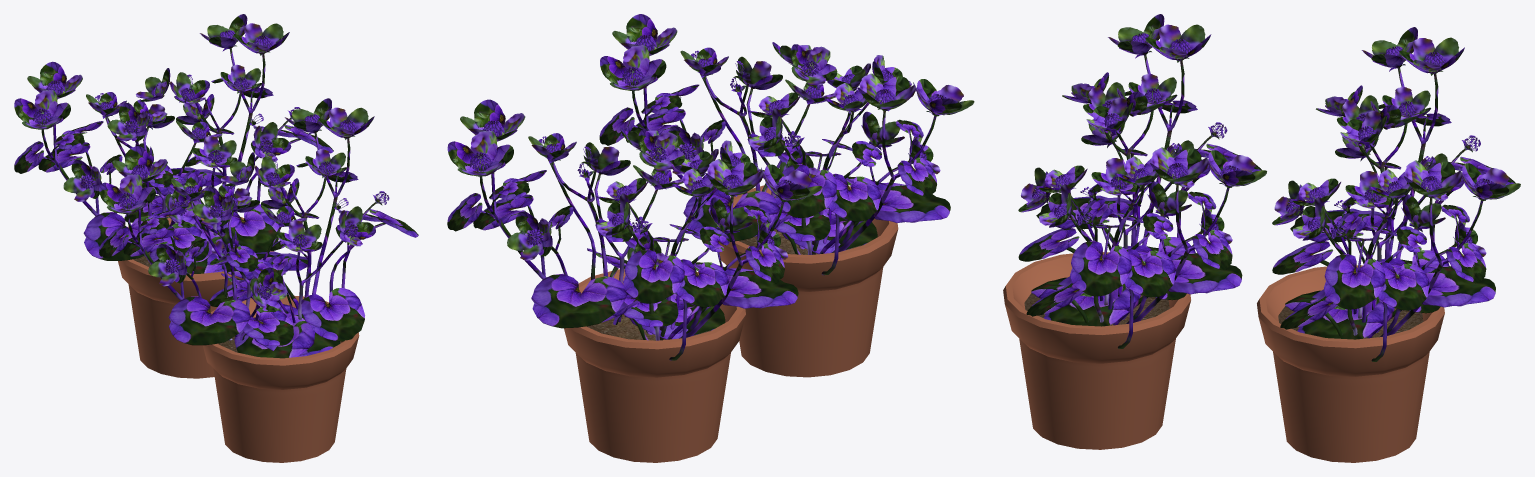
File: Room3-Flower11(Marigold).glb
The picture shows the model from 3 angles, left to right: view 1: azimuth 30°, elevation 25°; view 2: azimuth 150°, elevation 25°; view 3: azimuth 270°, elevation 25°; orthographic projection. The views are drawn at different scales.
Visible parts, largest first — view 1: marigold, marigold.001; view 2: marigold.001, marigold; view 3: marigold.001, marigold.
Part boxes in pixels (x1=…): marigold: x1=99, y1=98, x2=418, y2=462; marigold.001: x1=14, y1=14, x2=333, y2=378; marigold.001: x1=447, y1=99, x2=822, y2=462; marigold: x1=599, y1=14, x2=974, y2=377; marigold.001: x1=1257, y1=27, x2=1520, y2=462; marigold: x1=1003, y1=14, x2=1266, y2=449.
Bounding box in the file's own units: 3.16 × 2.69 × 3.8.
Materials: 2 (2 with a texture image).
